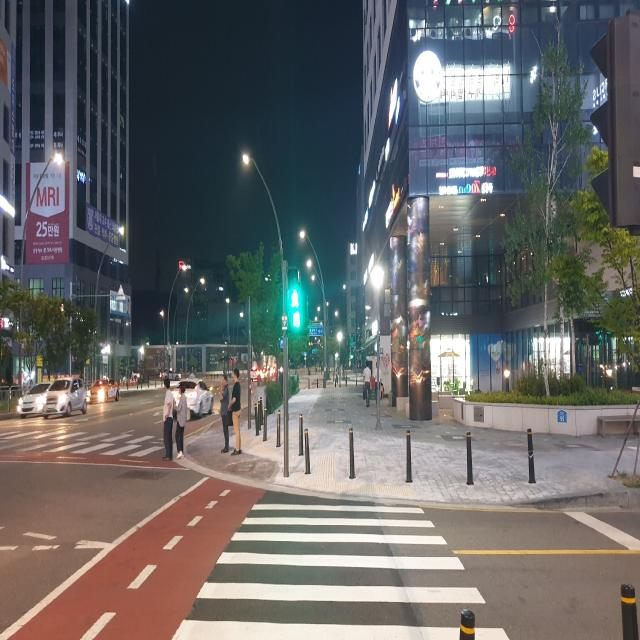초록불: (285, 270, 302, 334)
횡단보도: (168, 500, 512, 640), (0, 410, 180, 462)
